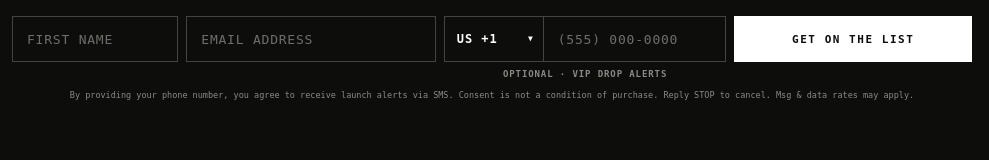
Test: LeadForm › shows an error and keeps the form when the save fails
The width and height of the screenshot is (989, 160).
Type "Jordan" into the field labelled "FIRST NAME" at {"x": 95, "y": 39}, box [12,16,178,62]
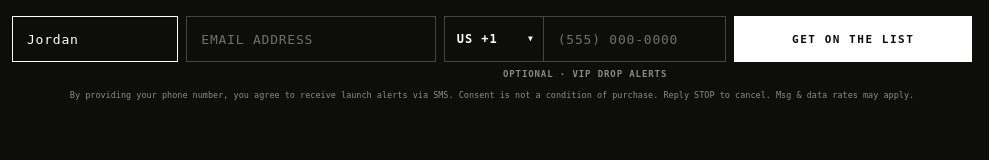
Type "jordan@court.com" into the field labelled "EMAIL ADDRESS" at {"x": 311, "y": 39}, box [186,16,436,62]
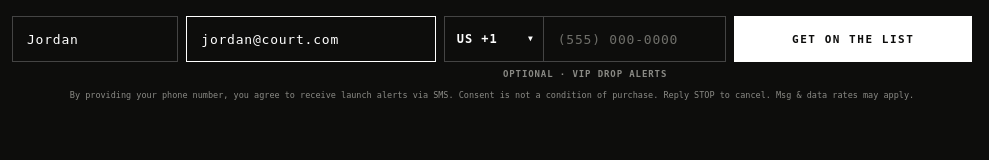
Click the button "GET ON THE LIST" at {"x": 853, "y": 39}, box [734,16,972,62]
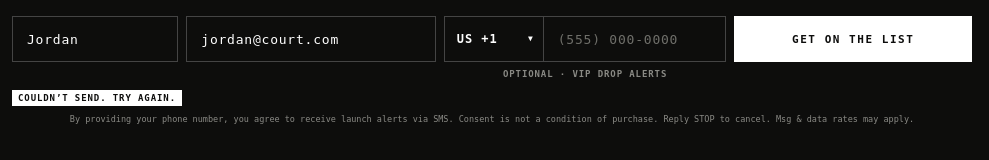
Expected: the text "COULDN’T SEND. TRY AGAIN." is shown, [12,90,182,106]
